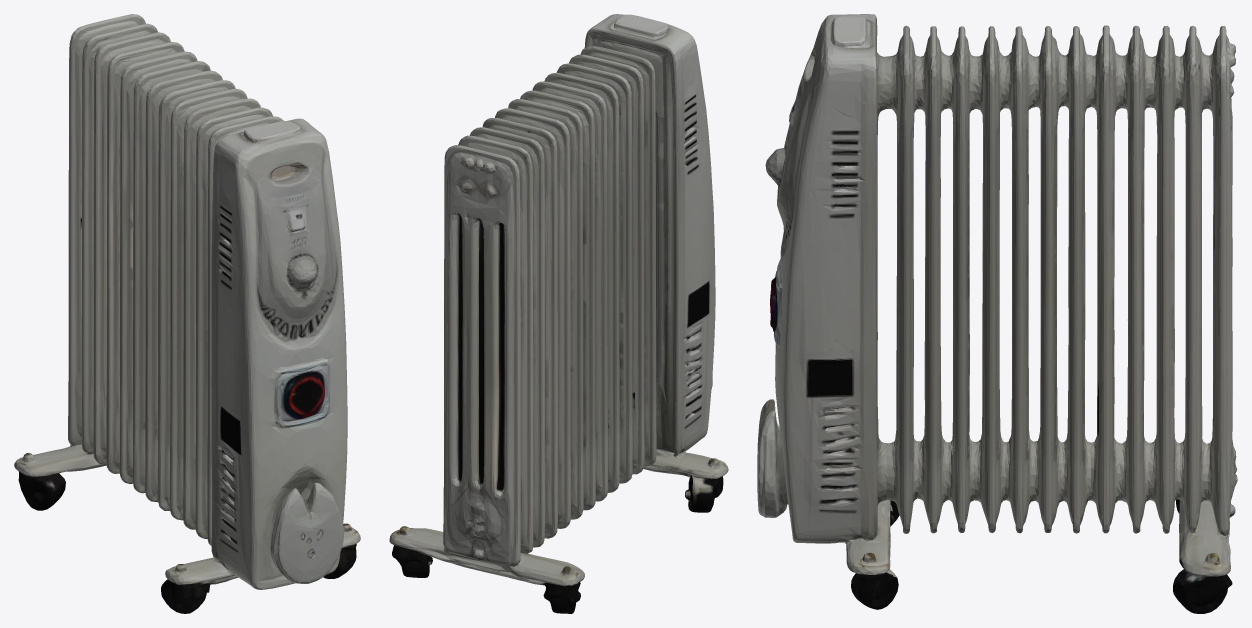
File: c13_heater_s0.glb
The picture shows the model from 3 angles, left to right: view 1: azimuth 30°, elevation 25°; view 2: azimuth 150°, elevation 25°; view 3: azimuth 270°, elevation 25°; orthographic projection. The views are drawn at different scales.
Visible parts, largest first — view 1: textured.obj; view 2: textured.obj; view 3: textured.obj.
Boxes of the visible parts, x1,y1,x2,y2 form: textured.obj: [14, 14, 360, 613]; textured.obj: [389, 14, 728, 613]; textured.obj: [757, 14, 1237, 613].
Bounding box in the file's own units: 0.8514 × 1.99 × 1.61.
1 material, 1 textured.
